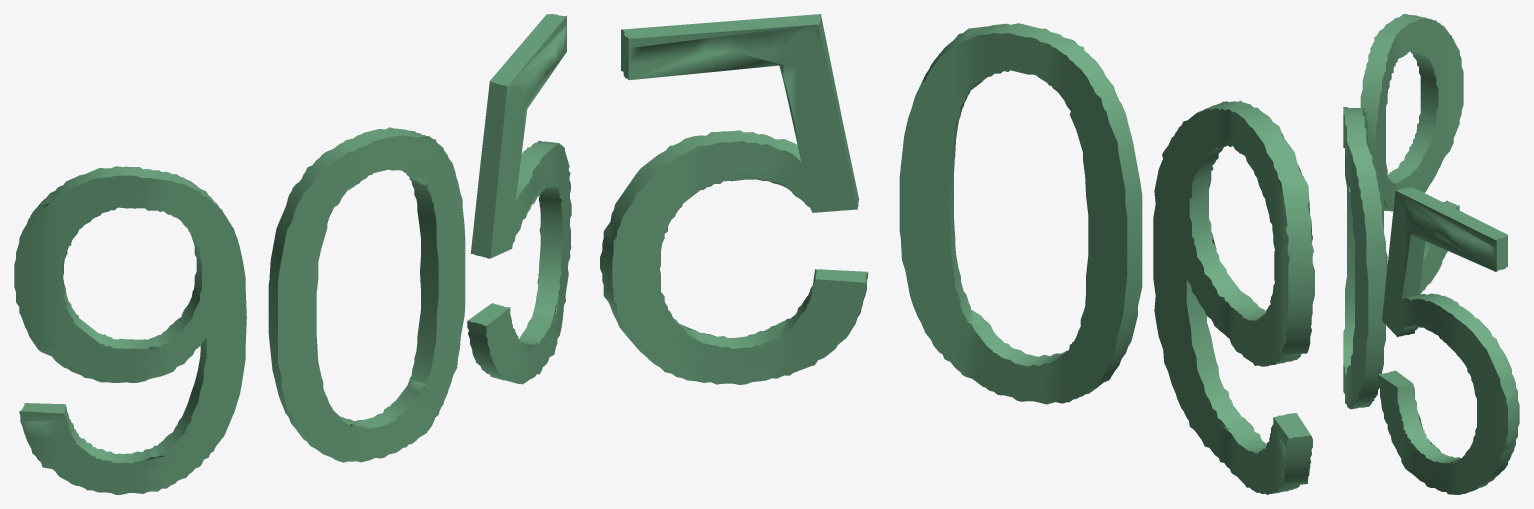
The model's file is port_5.obj.
3 renders of one model, left to right at view 1: azimuth 30°, elevation 25°; view 2: azimuth 150°, elevation 25°; view 3: azimuth 270°, elevation 25°, orthographic. The views are drawn at different scales.
Parts seen in each view (by area): view 1: Text01; view 2: Text01; view 3: Text01.
Part boxes in pixels (x1,y1,x2,y2): Text01: [14, 14, 571, 494]; Text01: [600, 14, 1314, 494]; Text01: [1343, 14, 1519, 494].
Size of the model in its own units: 3.08 by 1.59 by 0.91.
